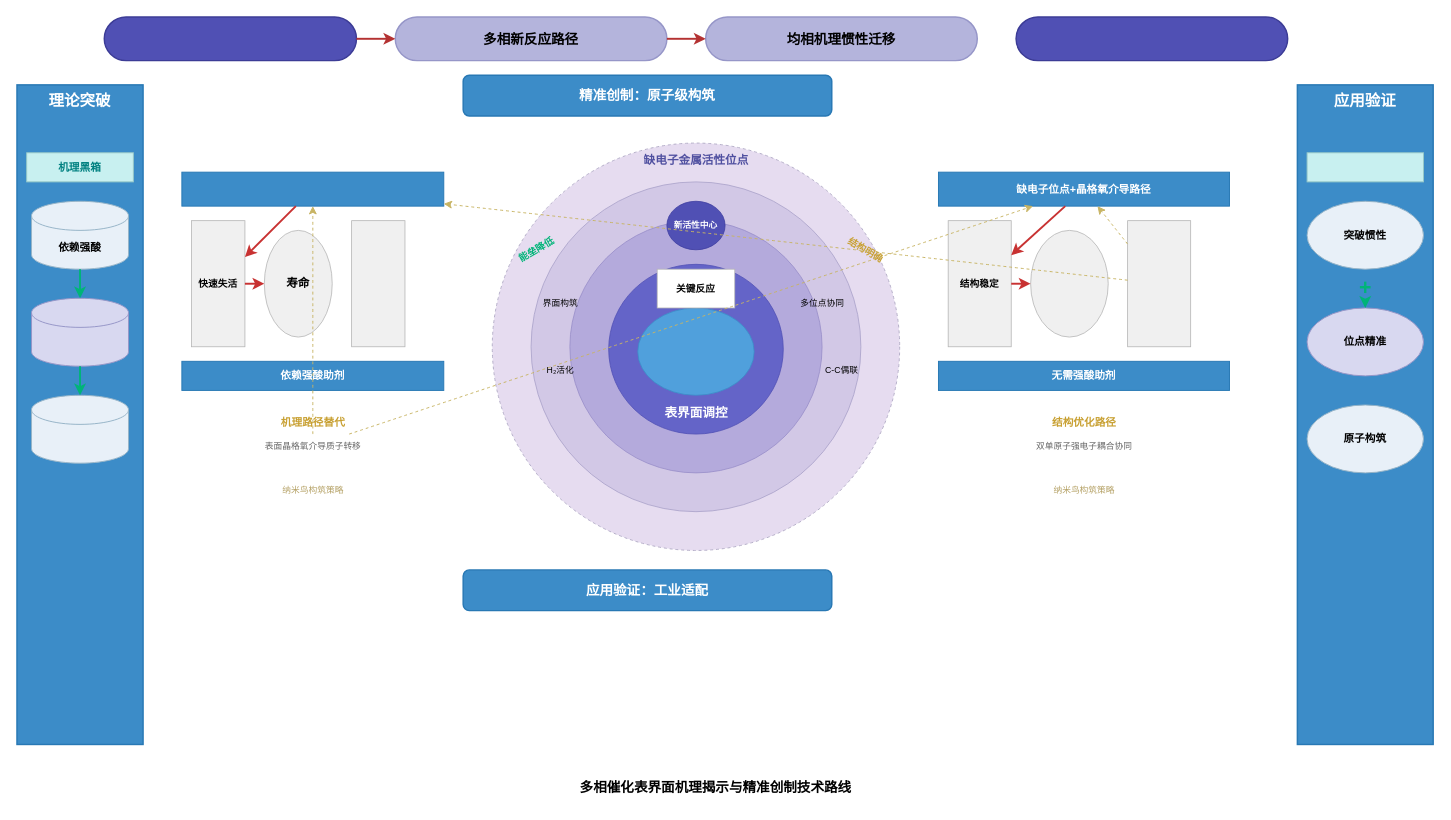
The diagram is 1451 pixels wide and 820 high, and some of its shapes have lost their labels. The centre of each missing label's shape, as x and y in pixels:
传统金属氯化物均相机理: the point at 312,188
协同不足: the point at 378,283
原位表征: the point at 80,331
寿命偏短: the point at 80,428
工业工况验证: the point at 1151,38
氢溢流效应: the point at 695,351
质疑传统机理: the point at 230,38
长寿: the point at 1069,283
长效稳定: the point at 1159,283
验证: the point at 1364,167
